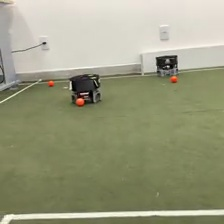ball: (74, 96, 85, 108), (169, 73, 178, 83), (47, 78, 54, 87)
goal: (138, 43, 224, 77)
robot: (67, 72, 104, 104), (155, 54, 179, 78)
